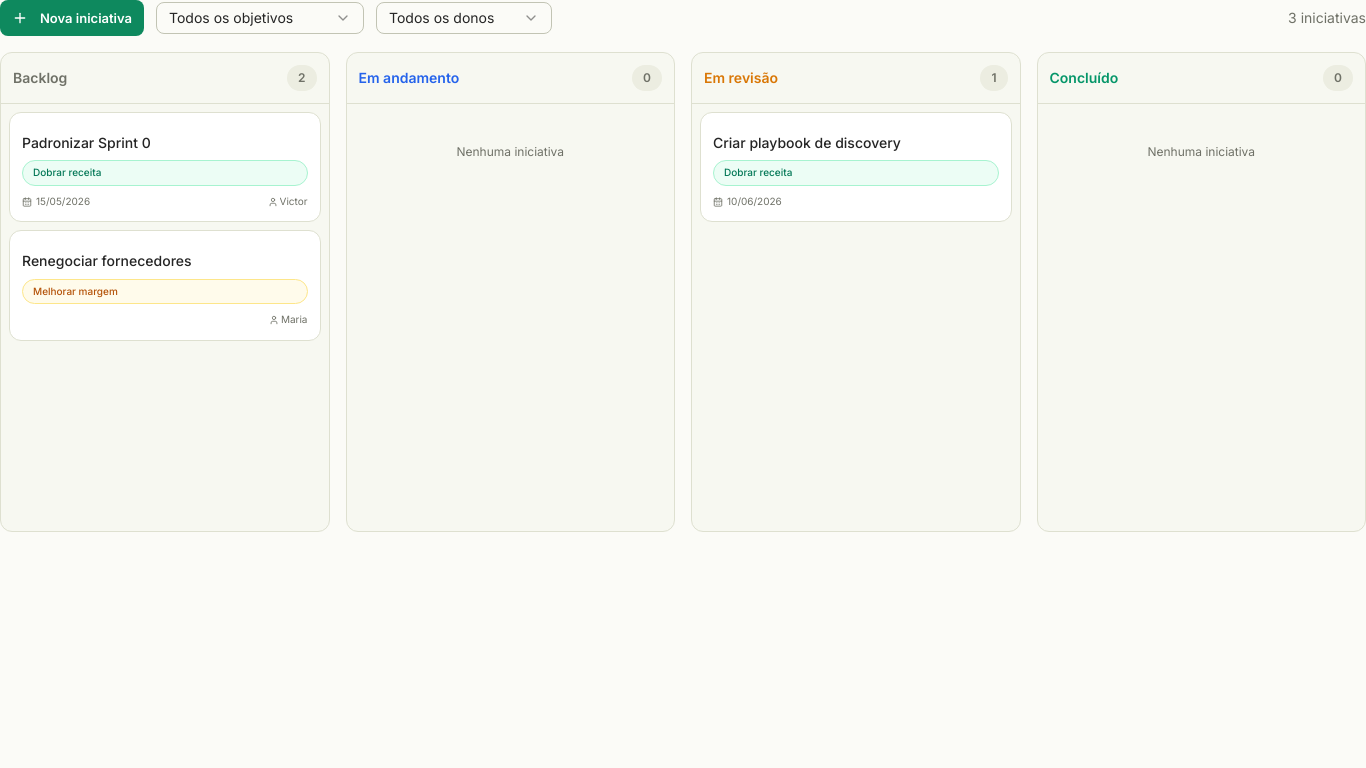
Test case: InitiativesKanban › opens the detail dialog when clicking a card
This screenshot has width=1366, height=768.
Click the text "Padronizar Sprint 0": (86, 142) [22, 134, 151, 151]
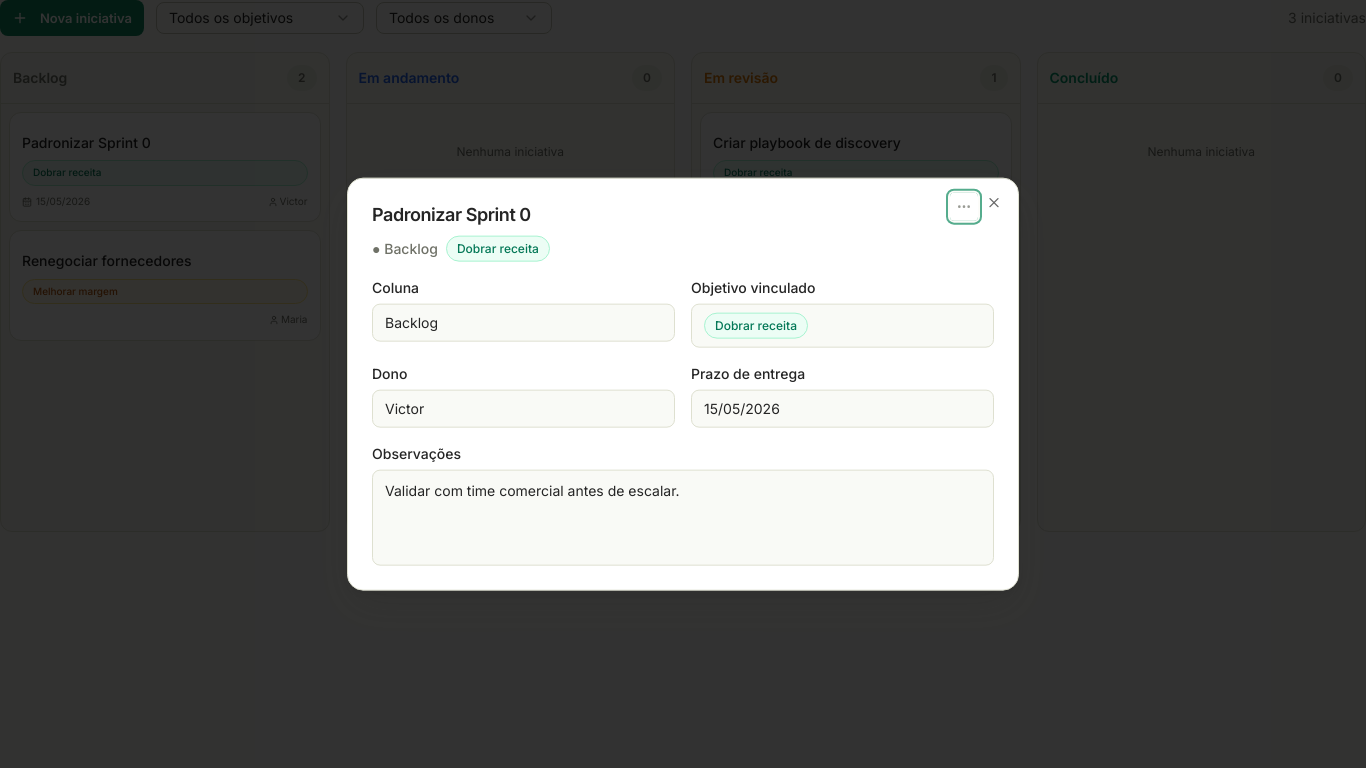
Result: the text "Observações" is shown at [372, 444, 461, 461]
Result: the text "Validar com time comercial antes de escalar." is shown at [385, 481, 680, 498]
Result: the 1st button named "Ações" is shown at [950, 193, 978, 221]
